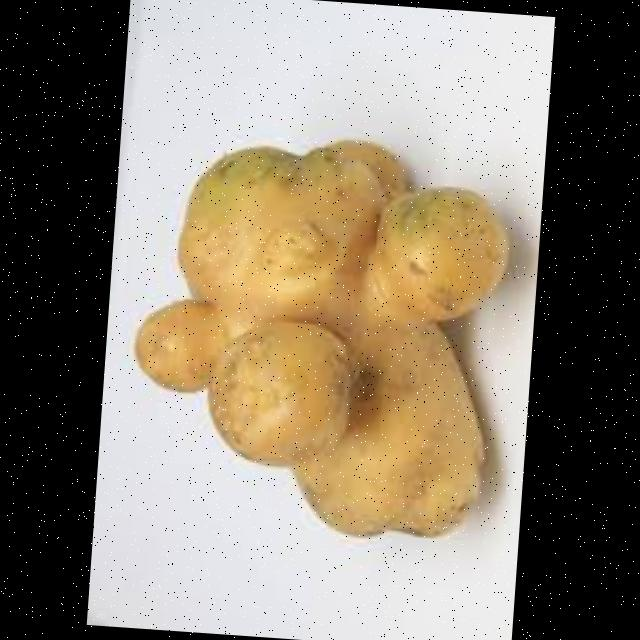Damaged potato: (109, 109, 528, 576)
